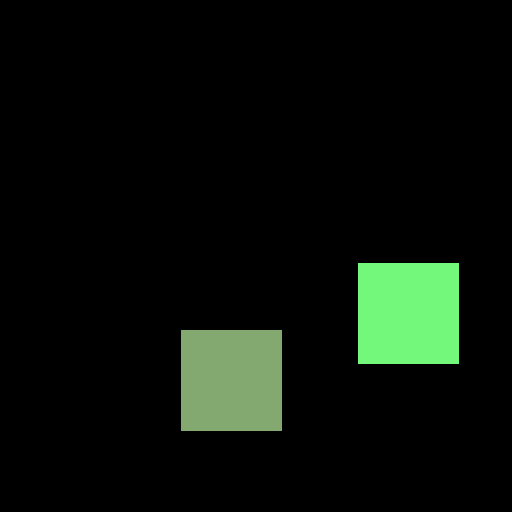square: (181, 330, 281, 430), (358, 263, 458, 363)
